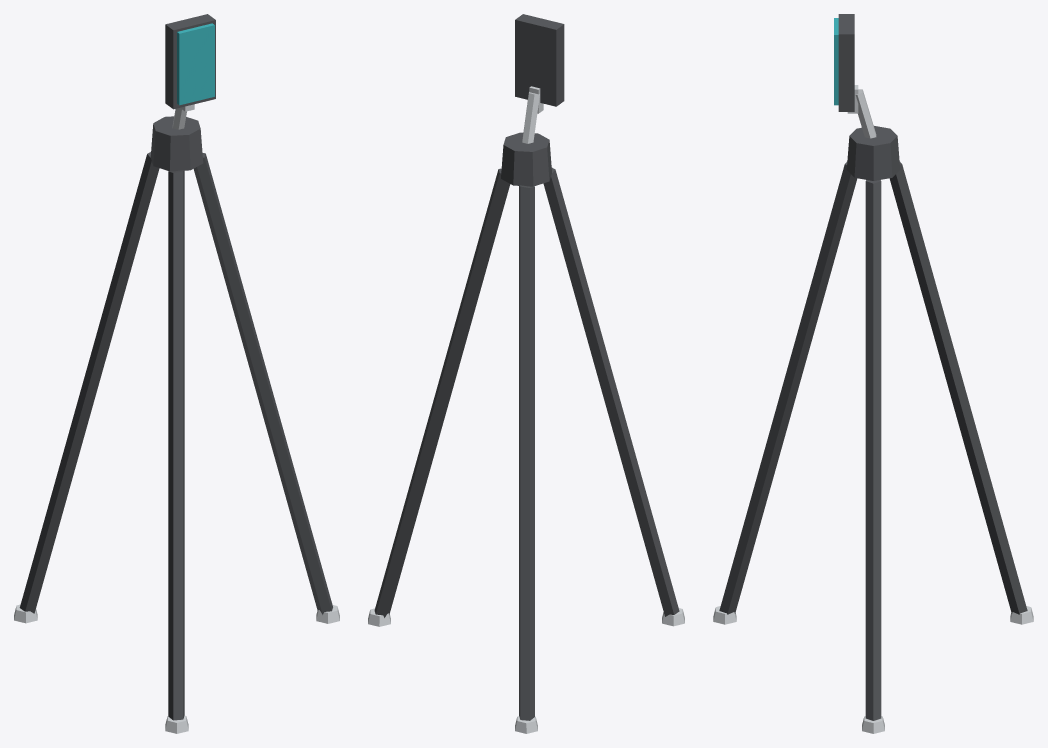
The model's file is skate-park-and-street-sports-filming-tripod-ba791133__33556.glb.
3 renders of one model, left to right at view 1: azimuth 30°, elevation 25°; view 2: azimuth 150°, elevation 25°; view 3: azimuth 270°, elevation 25°, orthographic. The views are drawn at different scales.
Visible parts, largest first — view 1: filming-tripod-charcoal, filming-tripod-teal, filming-tripod-steel; view 2: filming-tripod-charcoal, filming-tripod-steel; view 3: filming-tripod-charcoal, filming-tripod-steel.
Part boxes in pixels (box(x1,y1,x2,y2)): filming-tripod-charcoal: box(19, 14, 332, 720); filming-tripod-teal: box(177, 23, 214, 105); filming-tripod-steel: box(14, 104, 339, 733); filming-tripod-charcoal: box(374, 14, 679, 720); filming-tripod-steel: box(368, 86, 684, 733); filming-tripod-charcoal: box(719, 14, 1027, 720); filming-tripod-steel: box(713, 85, 1033, 733).
Size of the model in its own units: 0.53 by 1.3 by 0.5976.
